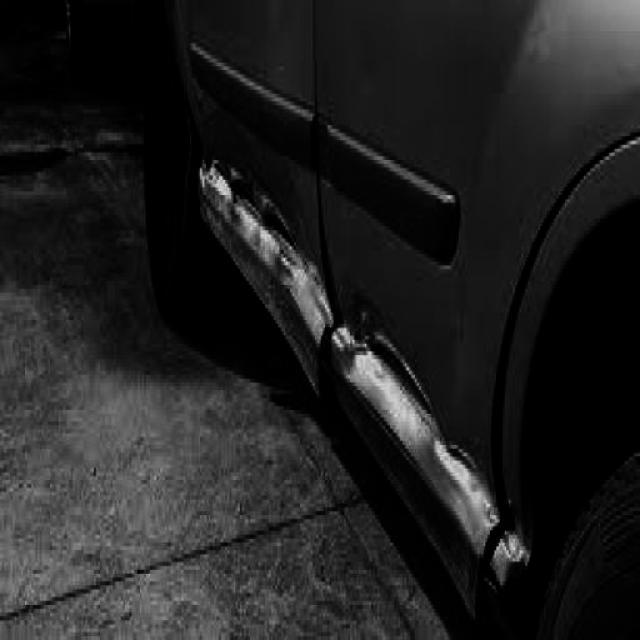car damage: (190, 114, 529, 624)
